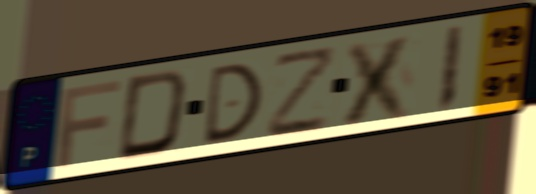D: (114, 66, 192, 164), (200, 59, 265, 149)
F: (54, 77, 124, 170)
I: (434, 22, 466, 116)
X: (337, 30, 420, 128)
Z: (265, 42, 340, 142)
